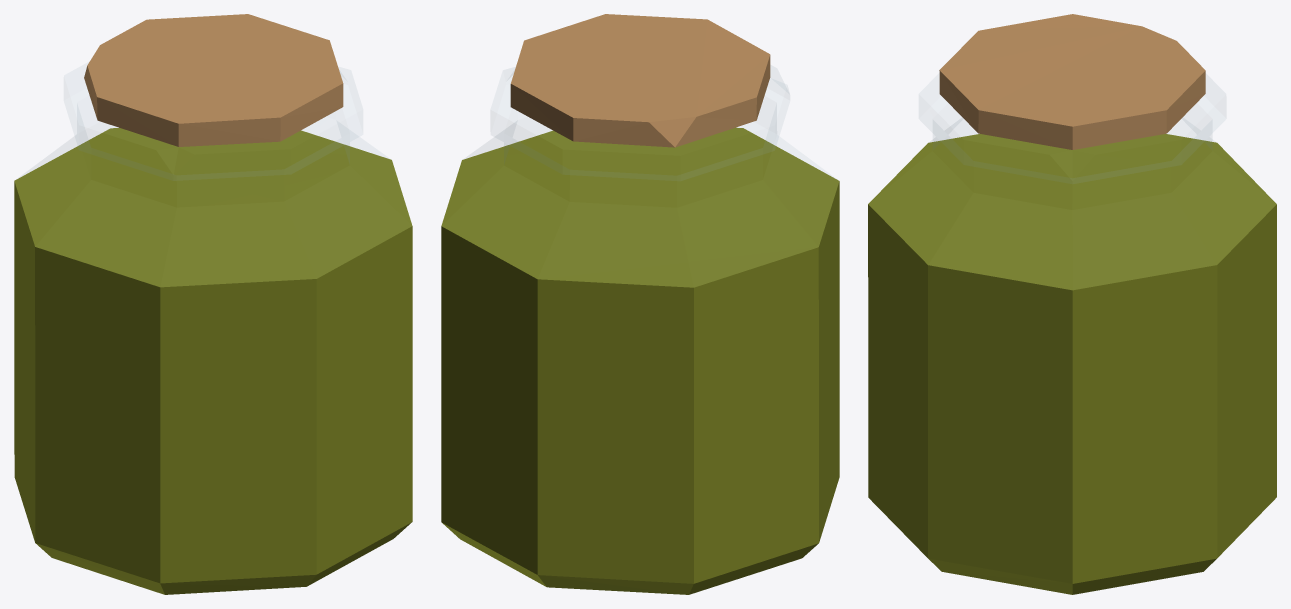
File: SFI_Jar_009.fbx
3 renders of one model, left to right at view 1: azimuth 30°, elevation 25°; view 2: azimuth 150°, elevation 25°; view 3: azimuth 270°, elevation 25°, orthographic.
Parts seen in each view (by area): view 1: SFI_Jar_009; view 2: SFI_Jar_009; view 3: SFI_Jar_009.
Boxes of the visible parts, x1,y1,x2,y2 form: SFI_Jar_009: (14,14,412,594); SFI_Jar_009: (441,14,839,594); SFI_Jar_009: (868,14,1276,594).
Bounding box in the file's own units: 10.25 × 12.35 × 10.25.
